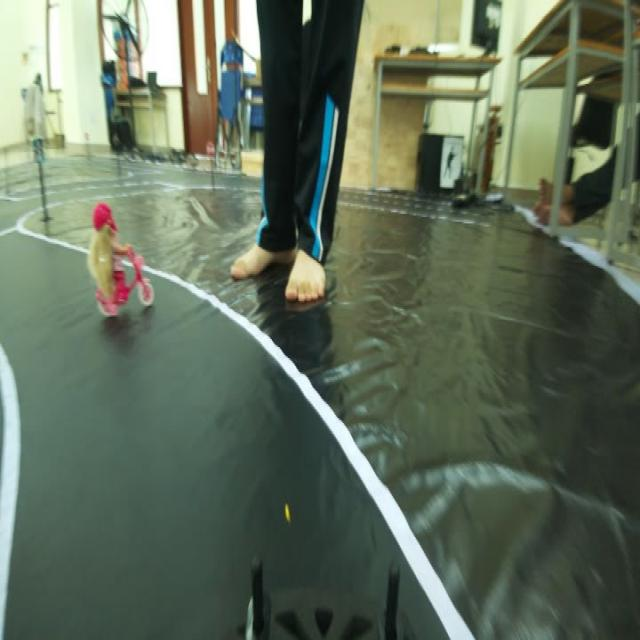pedestrian: (73, 204, 168, 336)
